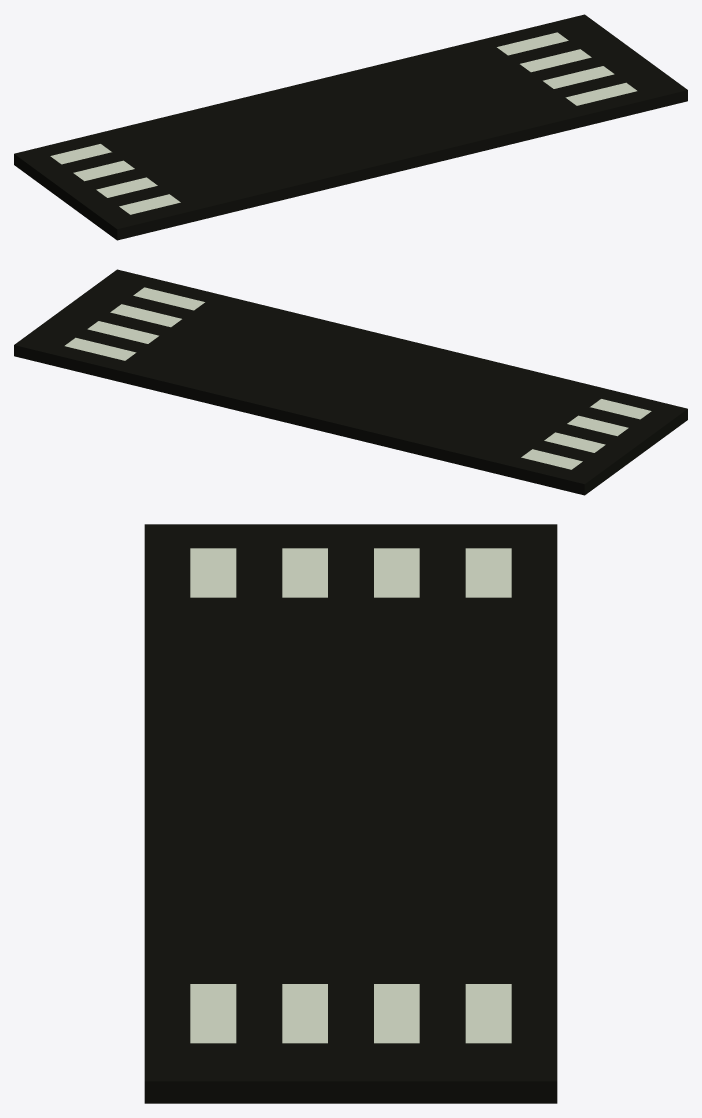
File: M_Calle_01.fbx
The picture shows the model from 3 angles, top to bottom: view 1: azimuth 30°, elevation 25°; view 2: azimuth 150°, elevation 25°; view 3: azimuth 270°, elevation 25°; orthographic projection. The views are drawn at different scales.
Parts seen in each view (by area): view 1: Calle_01; view 2: Calle_01; view 3: Calle_01.
Boxes of the visible parts, x1,y1,x2,y2 form: Calle_01: [14, 14, 687, 240]; Calle_01: [14, 269, 687, 495]; Calle_01: [144, 524, 557, 1103].
Bounding box in the file's own units: 16 × 0.3012 × 5.01.
